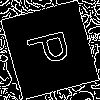P: (25, 25, 81, 70)
